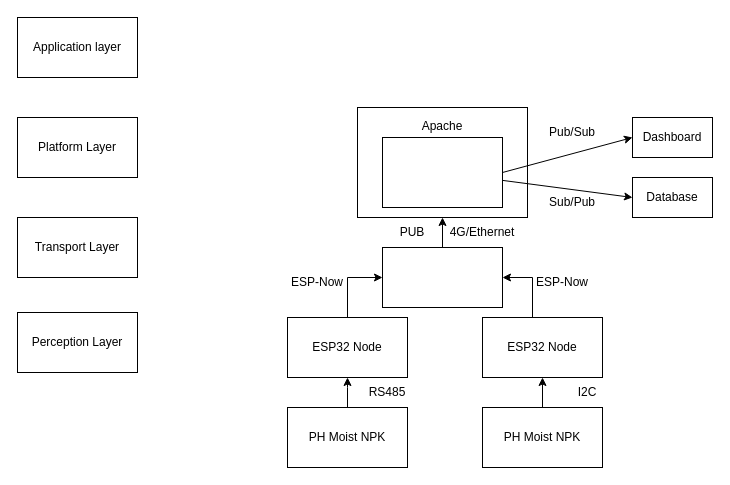
Some shapes in this 730 by 485 pixel diagram are drawn without their labels. Here are the shapes that lost their labels. From the top down, the centre of each, then its label:
At [442,172]: "MQTT broker".
At [442,277]: "ESP32 master".
